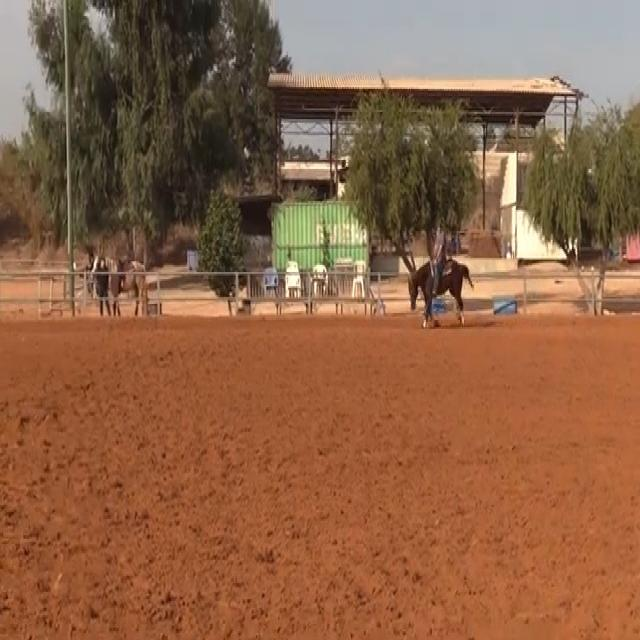horse: (405, 253, 474, 327)
